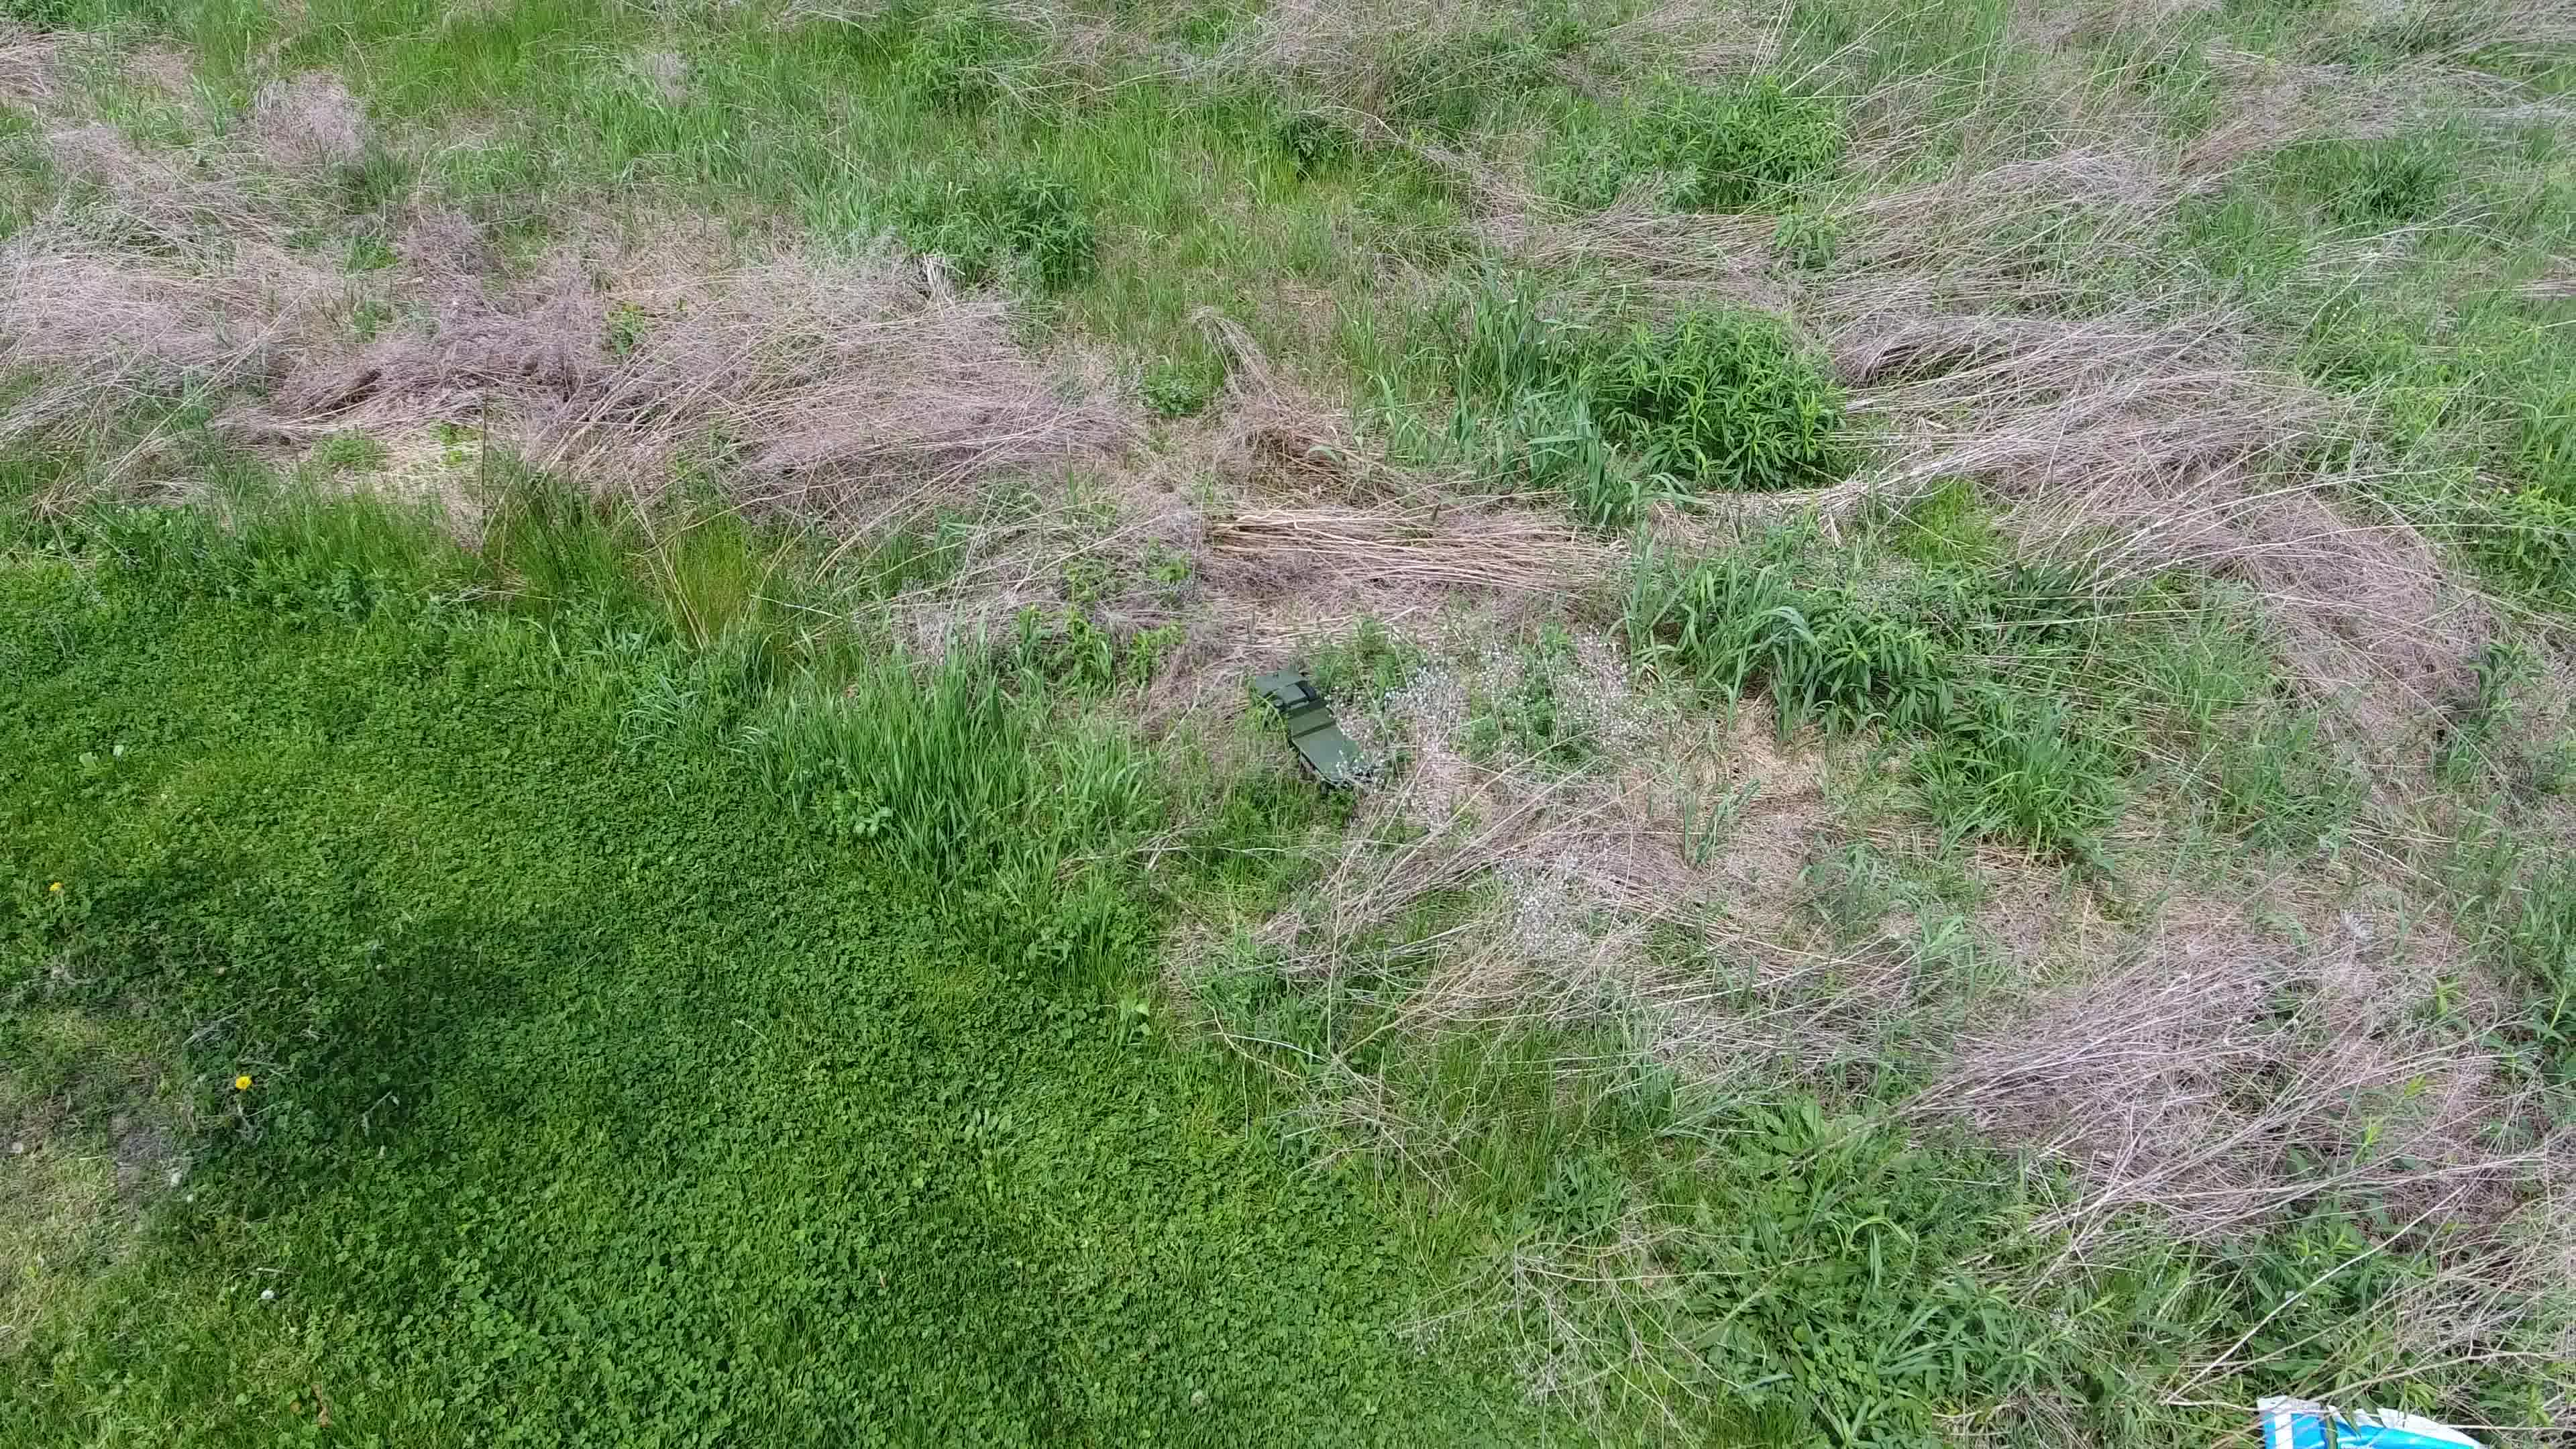transporter9: (1240, 665, 1375, 789)
